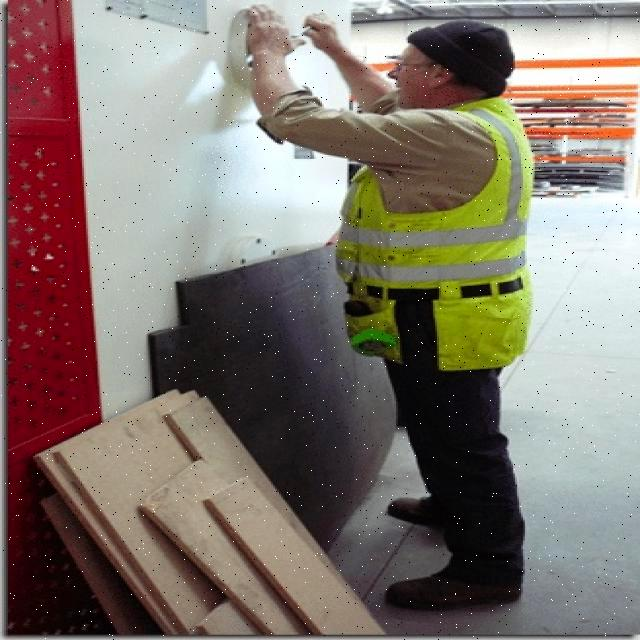Person: (242, 6, 548, 612)
Vest: (335, 98, 532, 371)
